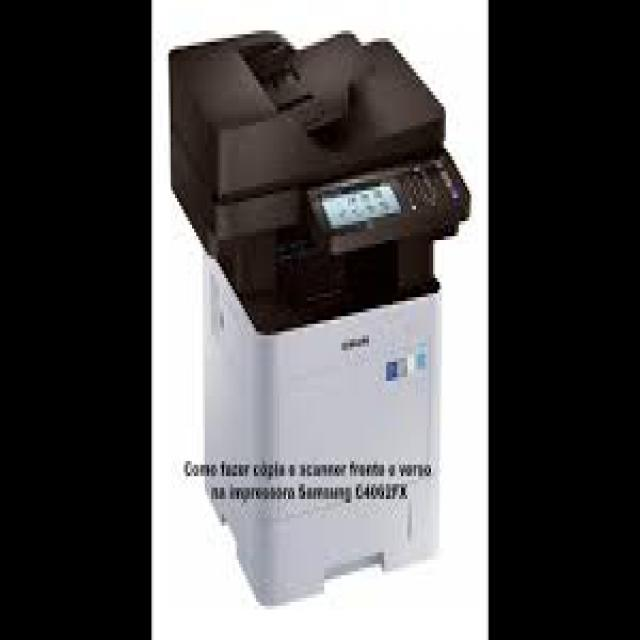printer: (165, 25, 476, 617)
